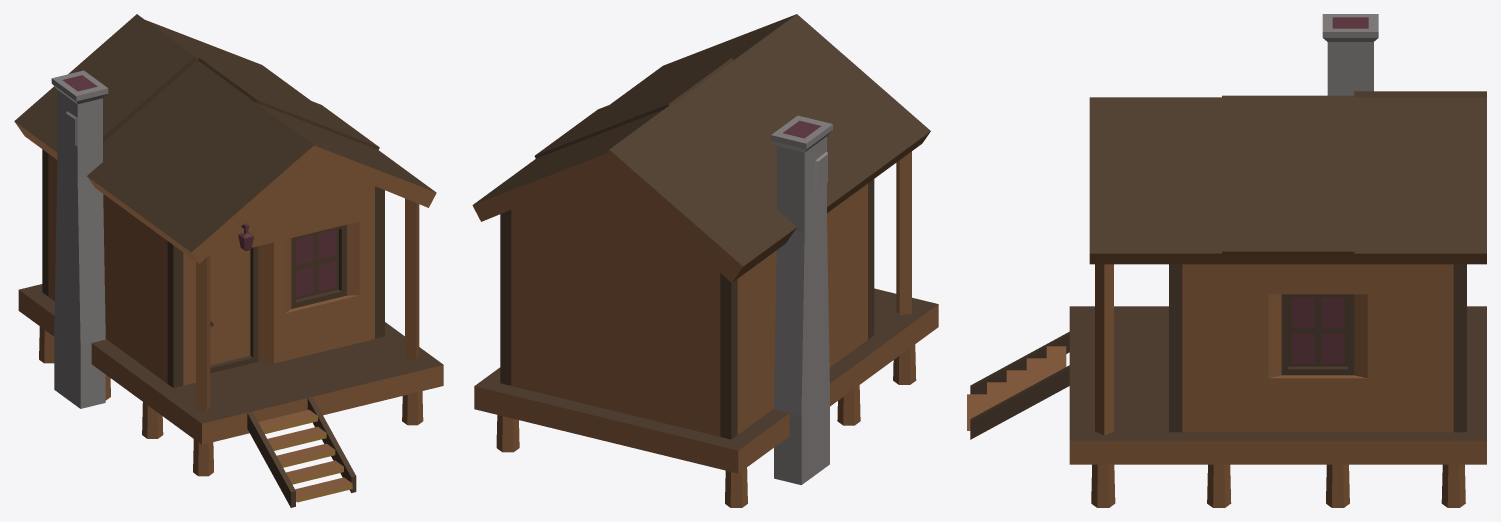
The model's file is building-cabin-small.fbx.
The picture shows the model from 3 angles, left to right: view 1: azimuth 30°, elevation 25°; view 2: azimuth 150°, elevation 25°; view 3: azimuth 270°, elevation 25°; orthographic projection. The views are drawn at different scales.
Visible parts, largest first — view 1: building-cabin-small; view 2: building-cabin-small; view 3: building-cabin-small.
Part boxes in pixels (x1,y1,x2,y2): building-cabin-small: (14, 14, 443, 507); building-cabin-small: (472, 14, 938, 507); building-cabin-small: (967, 14, 1486, 507).
Size of the model in its own units: 4.38 by 5.05 by 6.67.
